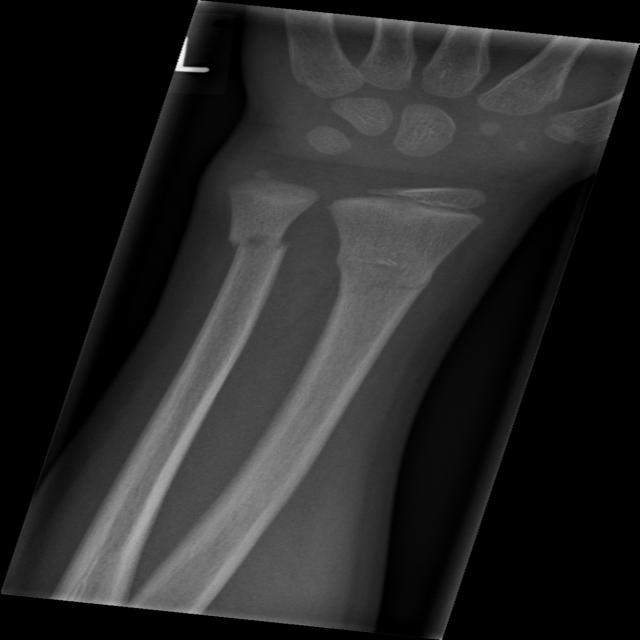radius fracture: (316, 230, 456, 347)
ulna fracture: (210, 206, 305, 315)
